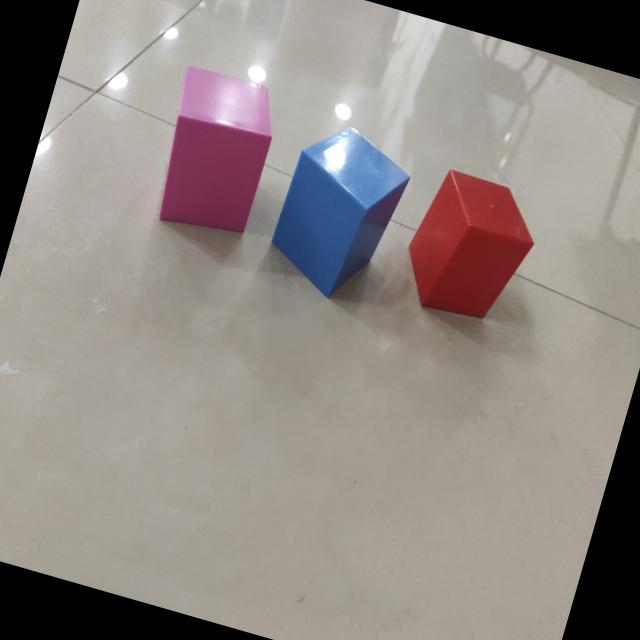blue: (270, 128, 409, 298)
pink: (157, 67, 272, 234)
red: (407, 169, 534, 320)
